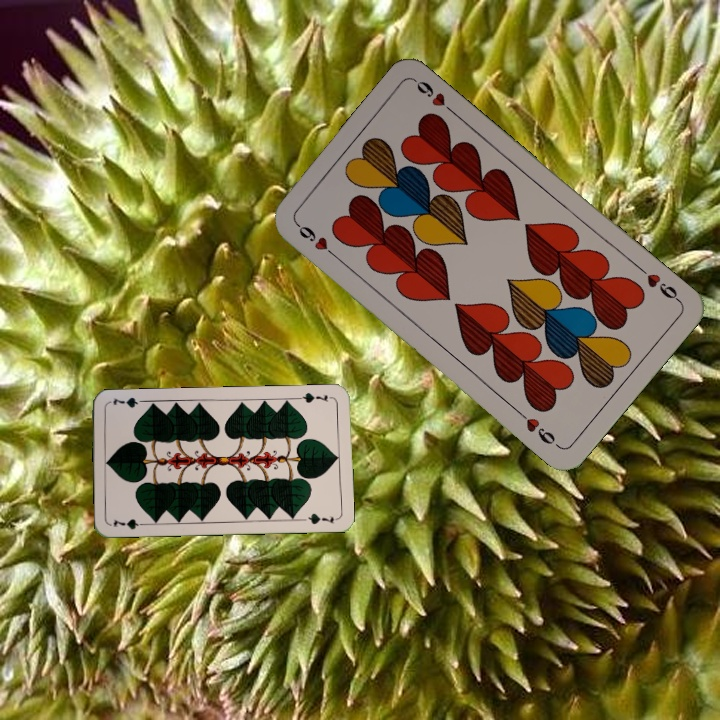G7: (295, 388, 335, 405), (110, 515, 149, 532)
H9: (634, 262, 683, 305), (292, 219, 341, 262)
